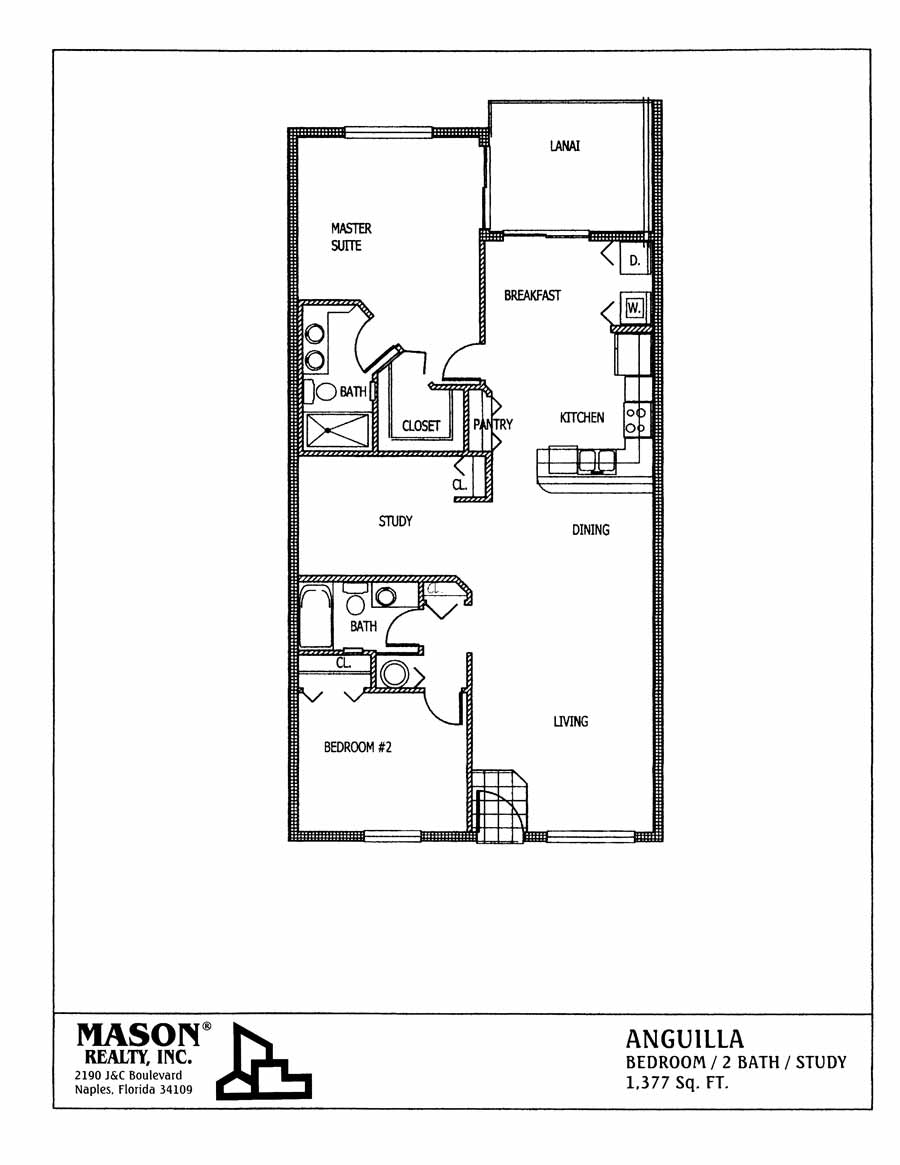door: (419, 696, 471, 736), (436, 345, 480, 381), (382, 615, 419, 652), (338, 685, 362, 704), (298, 690, 320, 701)
window: (547, 825, 631, 852), (345, 122, 427, 143), (366, 827, 417, 845)
